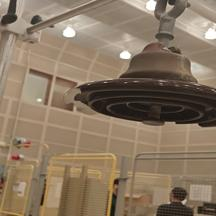insulator: (57, 34, 216, 143)
